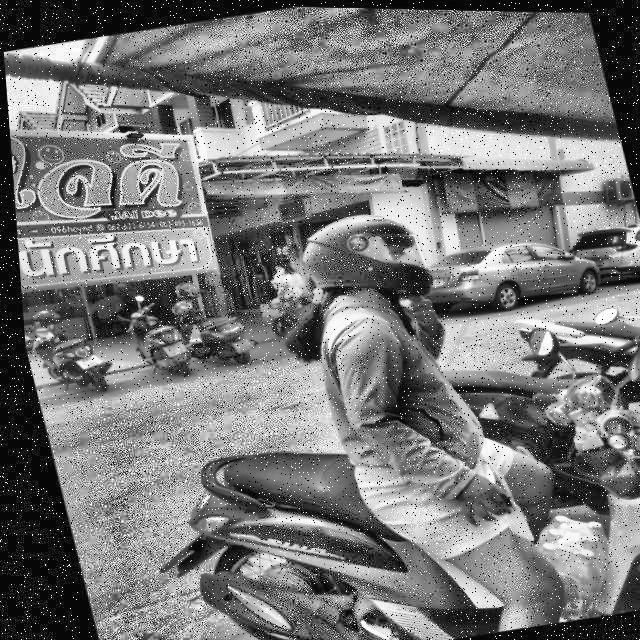Helmet: (283, 197, 436, 318)
